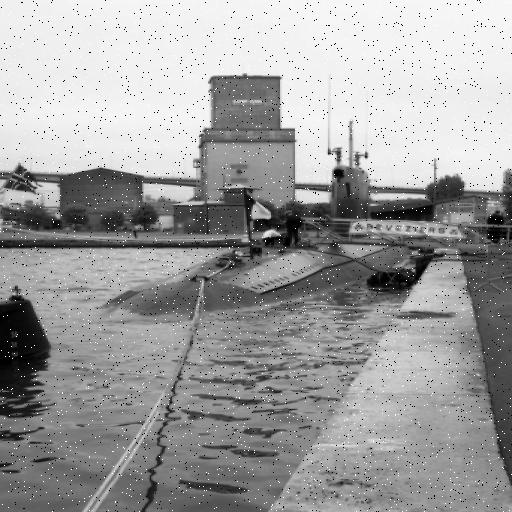submarine: (1, 245, 425, 394)
